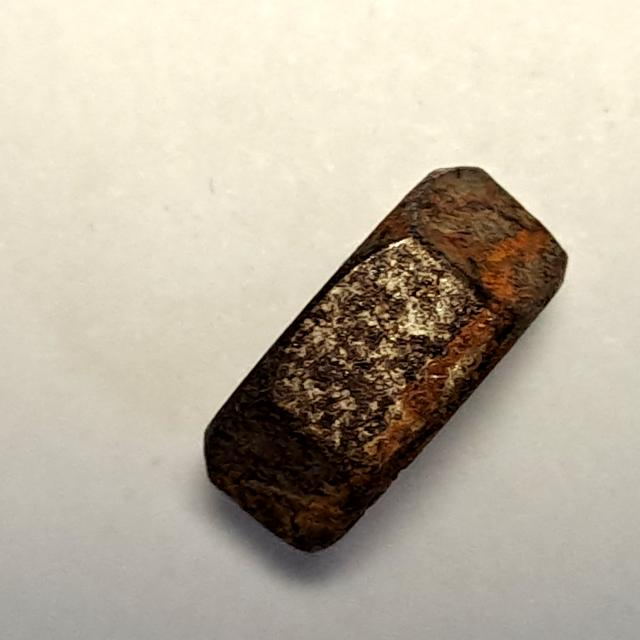Side_Rust: (184, 149, 577, 567)
